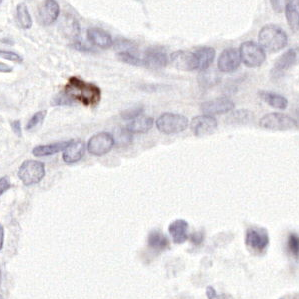Lymphocyte: (65, 76, 101, 106)
